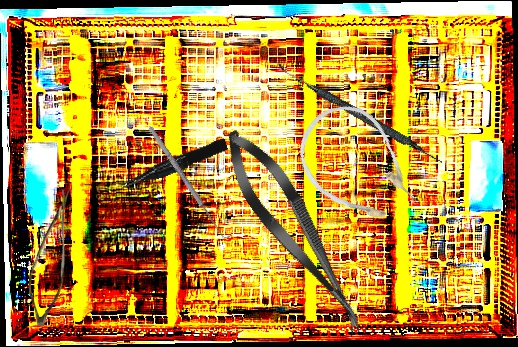Cannula: (280, 88, 435, 246)
Hook Surgical: (145, 122, 234, 243)
Micro Scissor: (210, 119, 381, 345), (29, 186, 70, 326)
Spatula Surgical: (274, 63, 446, 166)
Tissue Forceps: (117, 138, 230, 191)
